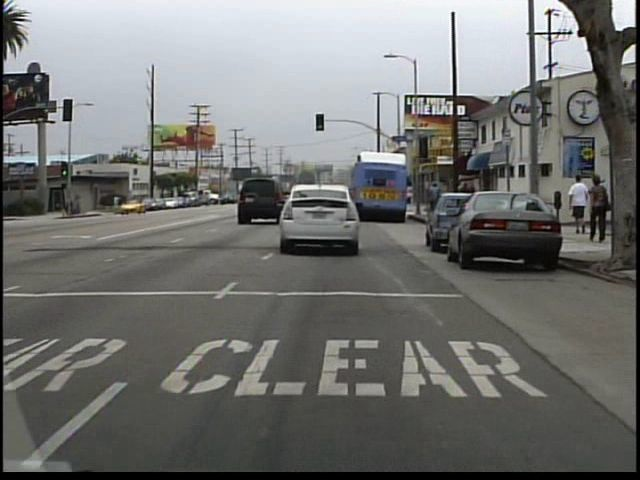person: (584, 173, 608, 245), (565, 172, 589, 237), (425, 180, 444, 221), (111, 194, 123, 214)
